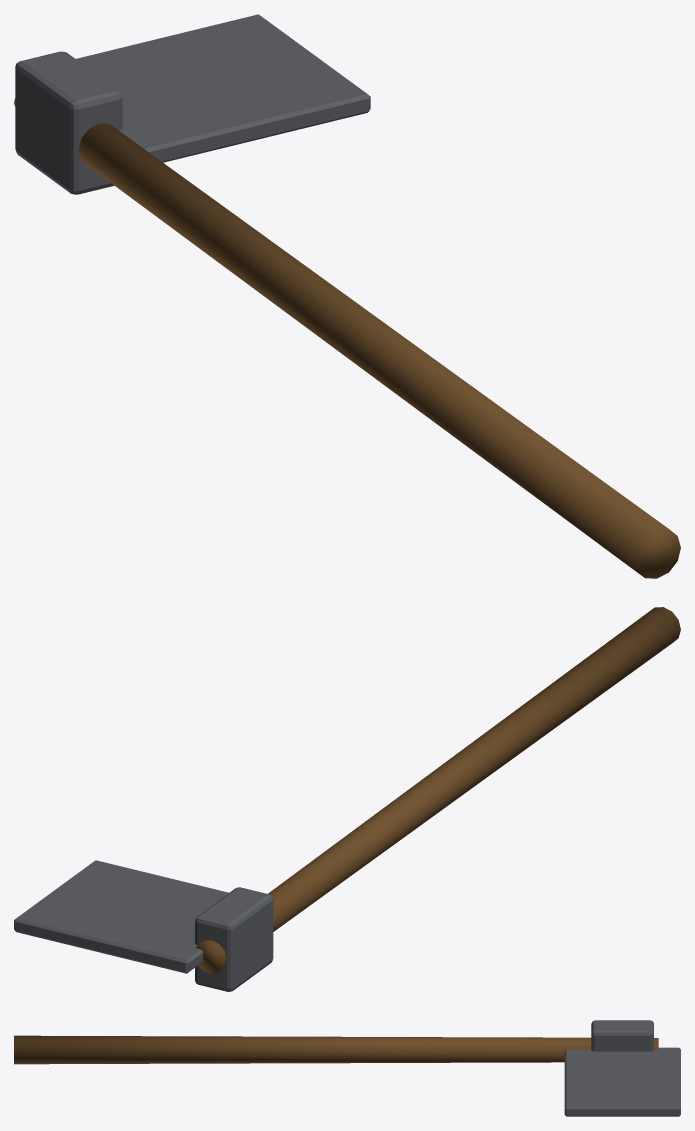
The model's file is axe.glb.
3 views of the same model, one above another, from view 1: azimuth 30°, elevation 25°; view 2: azimuth 150°, elevation 25°; view 3: azimuth 270°, elevation 25° (orthographic). The views are drawn at different scales.
Parts seen in each view (by area): view 1: axe; view 2: axe; view 3: axe.
Part boxes in pixels (x1,y1,x2,y2): axe: (14,14,680,578); axe: (14,607,680,991); axe: (14,1020,680,1116).
Bounding box in the file's own units: 0.1825 × 0.06 × 0.745.
